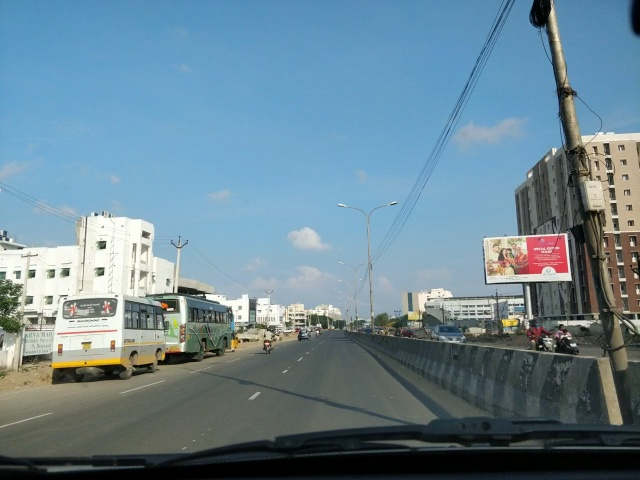car: (425, 324, 466, 350), (290, 325, 314, 344)
motorbike: (522, 316, 553, 352), (552, 322, 584, 356), (260, 324, 275, 353)
truck: (53, 296, 169, 382), (155, 292, 235, 368)
